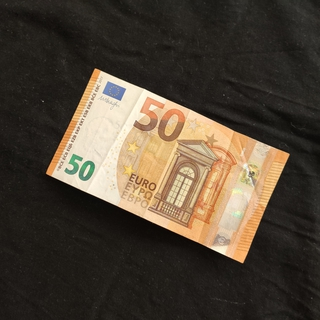50EUROFront: (43, 66, 290, 264)
